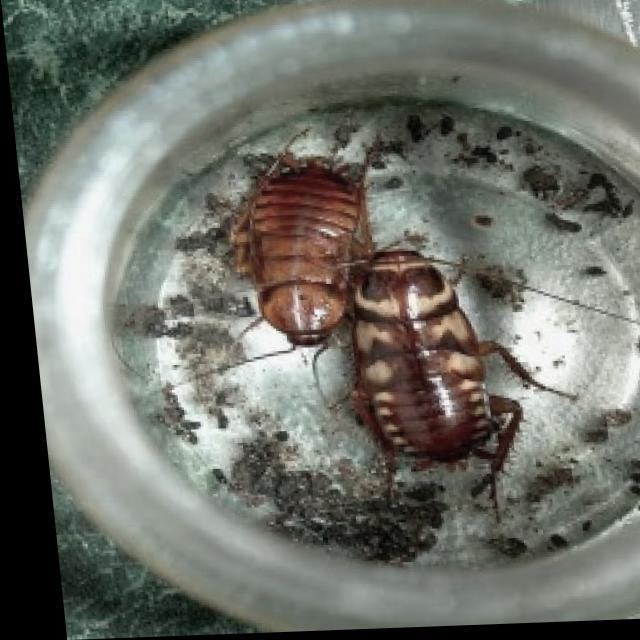cockroach: (320, 224, 536, 502), (226, 134, 386, 357)
